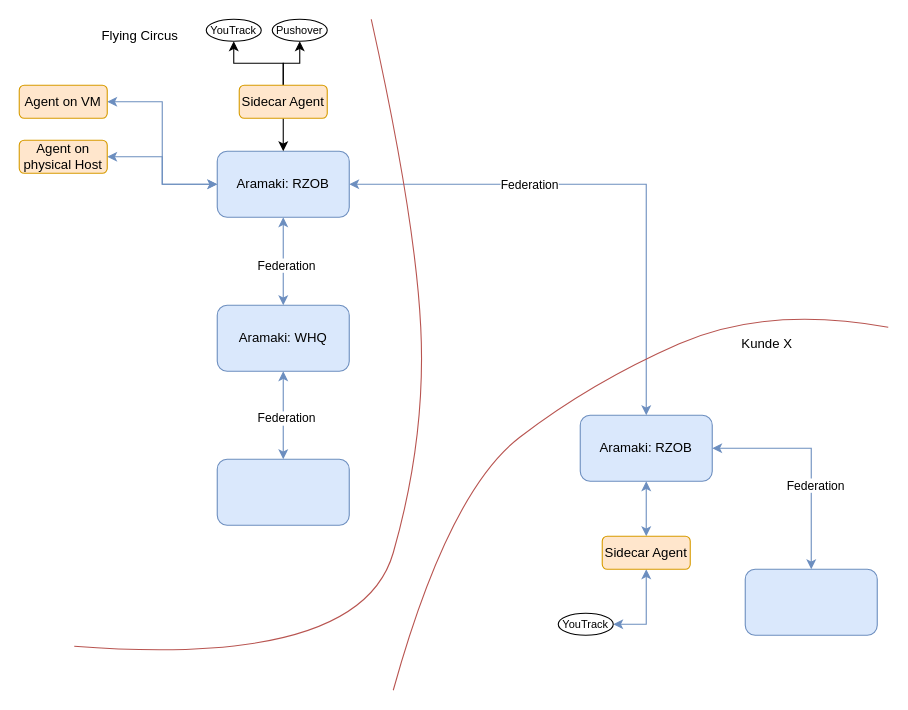
Image size: 908x710. Some labels were removed from this diagram. The centre of each missing label's shape, as x and y in pixels:
Aramaki: DEV: (282,491)
Aramaki: Kunden-RZ: (810,601)
